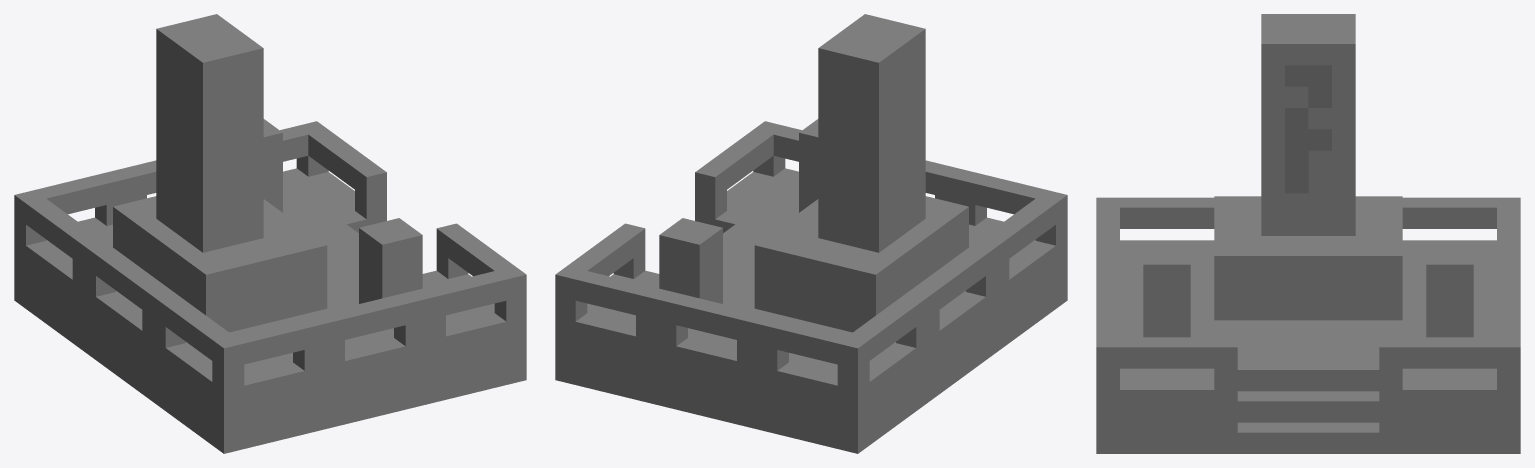
The model's file is haka.obj.
The picture shows the model from 3 angles, left to right: view 1: azimuth 30°, elevation 25°; view 2: azimuth 150°, elevation 25°; view 3: azimuth 270°, elevation 25°; orthographic projection.
Size of the model in its own units: 15 by 15 by 18.
1 material, 1 textured.
